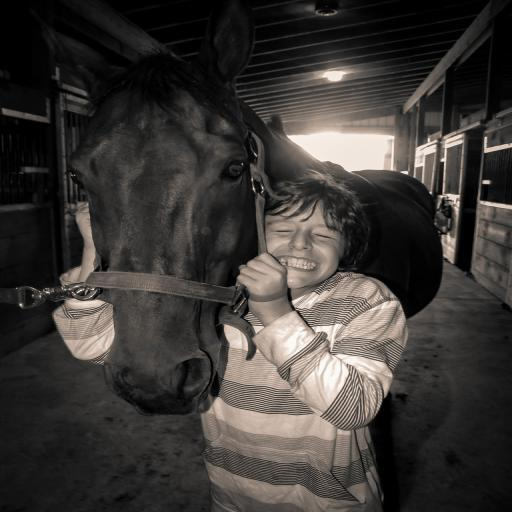horse: (36, 3, 446, 421)
